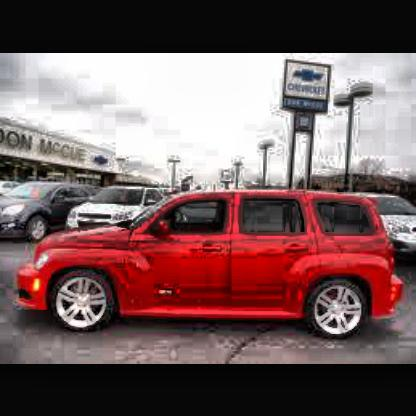Chevrolet HHR SS 2010: (19, 188, 407, 345)
